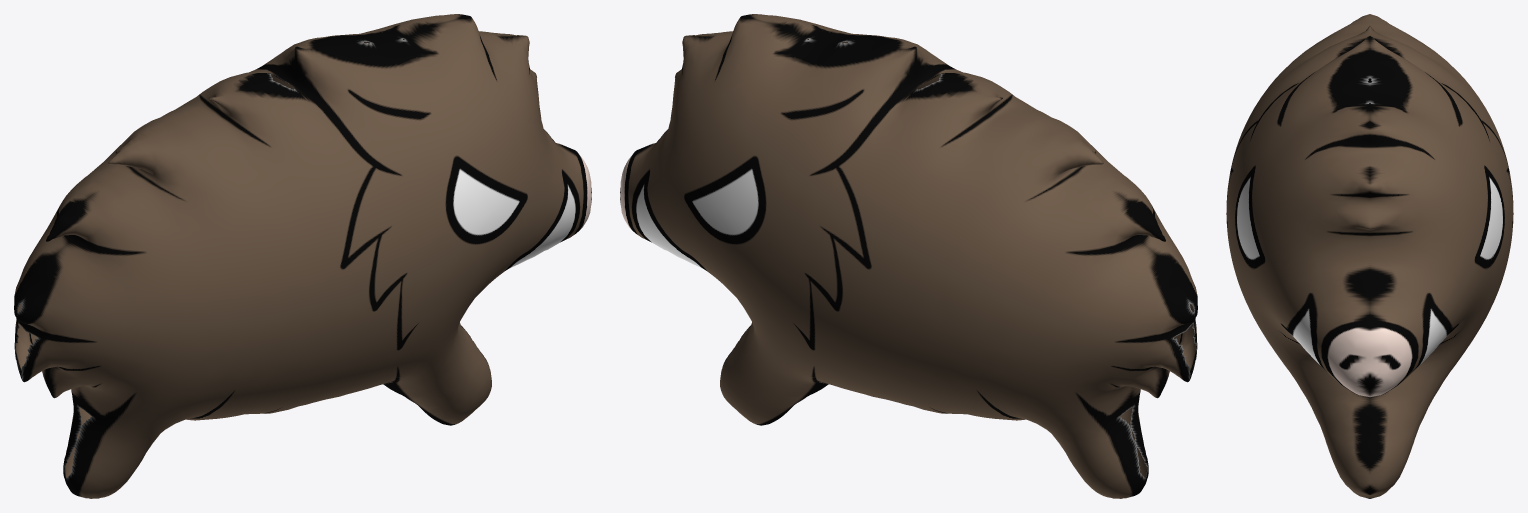
File: Enemy.fbx
The picture shows the model from 3 angles, left to right: view 1: azimuth 30°, elevation 25°; view 2: azimuth 150°, elevation 25°; view 3: azimuth 270°, elevation 25°; orthographic projection. The views are drawn at different scales.
Parts seen in each view (by area): view 1: mm_frame; view 2: mm_frame; view 3: mm_frame.
Boxes of the visible parts, x1,y1,x2,y2 form: mm_frame: (14, 14, 591, 498); mm_frame: (620, 14, 1197, 498); mm_frame: (1226, 14, 1513, 498).
Size of the model in its own units: 6.65 by 4.63 by 3.07.
1 material, 1 textured.
